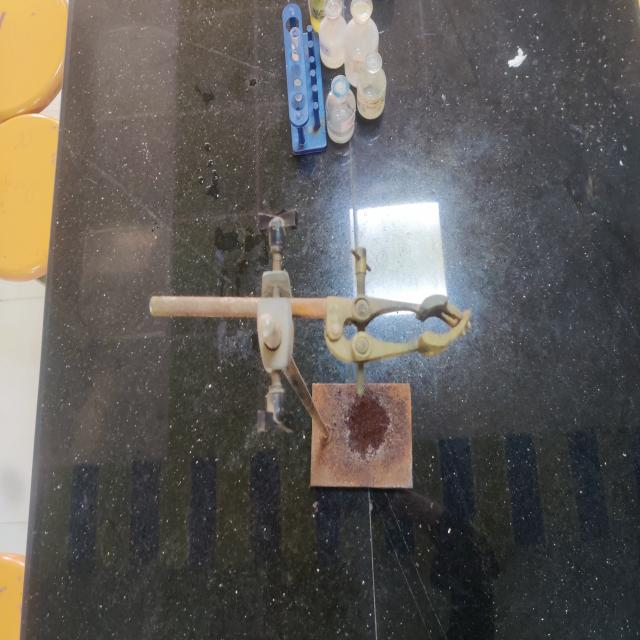Burette_Stands: (115, 188, 504, 547)
